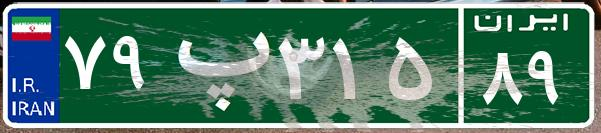1: (330, 28, 385, 110)
3: (273, 28, 330, 110)
5: (385, 28, 445, 110)
7: (57, 26, 110, 107)
8: (475, 38, 525, 113)
9: (110, 28, 158, 105), (525, 38, 570, 115)
پ: (158, 15, 273, 115)
